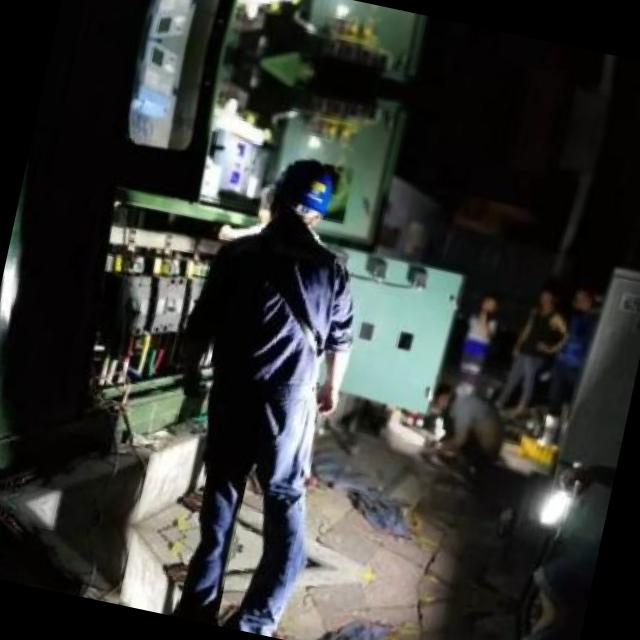helmet: (260, 150, 338, 230)
